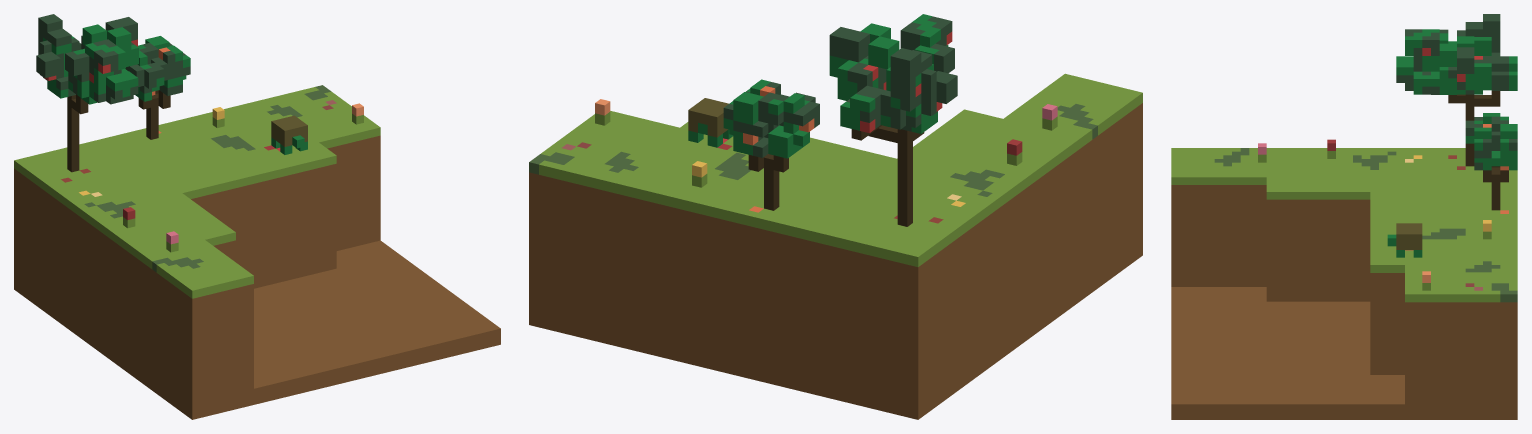
Rendered from wet3.dae.
3 views of the same model, side by side, from view 1: azimuth 30°, elevation 25°; view 2: azimuth 150°, elevation 25°; view 3: azimuth 270°, elevation 25° (orthographic). The views are drawn at different scales.
Parts seen in each view (by area): view 1: Imagem4Terra; view 2: Imagem4Terra; view 3: Imagem4Terra.
Boxes of the visible parts, x1,y1,x2,y2 form: Imagem4Terra: (14, 14, 500, 419); Imagem4Terra: (529, 14, 1142, 419); Imagem4Terra: (1171, 14, 1517, 419).
Size of the model in its own units: 4 by 3.4 by 4.
Materials: 1 (1 with a texture image).
